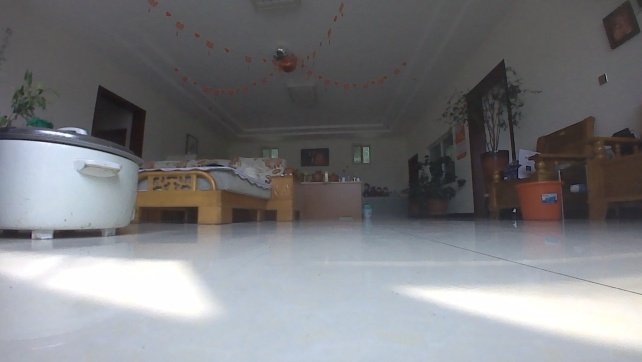sofa: (136, 153, 288, 227)
